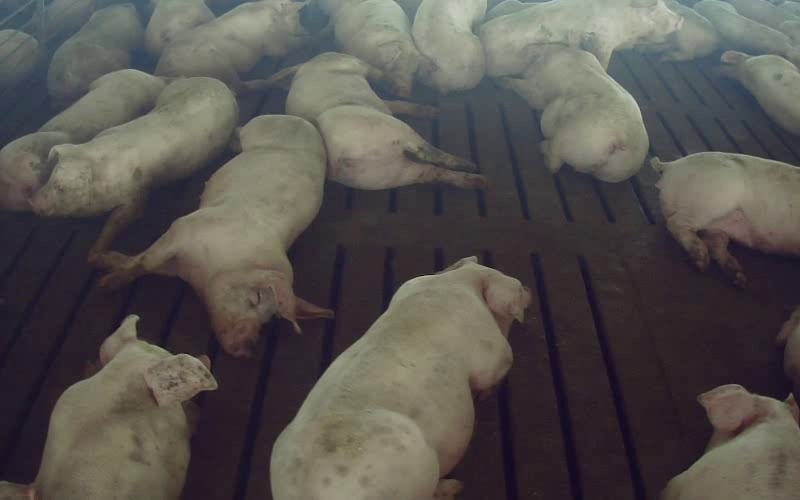pig: (271, 257, 529, 499), (30, 79, 237, 256), (34, 315, 216, 499), (272, 52, 485, 189), (0, 69, 165, 210), (499, 44, 648, 181), (651, 152, 799, 284), (479, 0, 682, 77), (156, 0, 304, 89), (47, 4, 143, 104), (335, 0, 433, 97), (412, 0, 486, 93), (720, 51, 799, 135)
